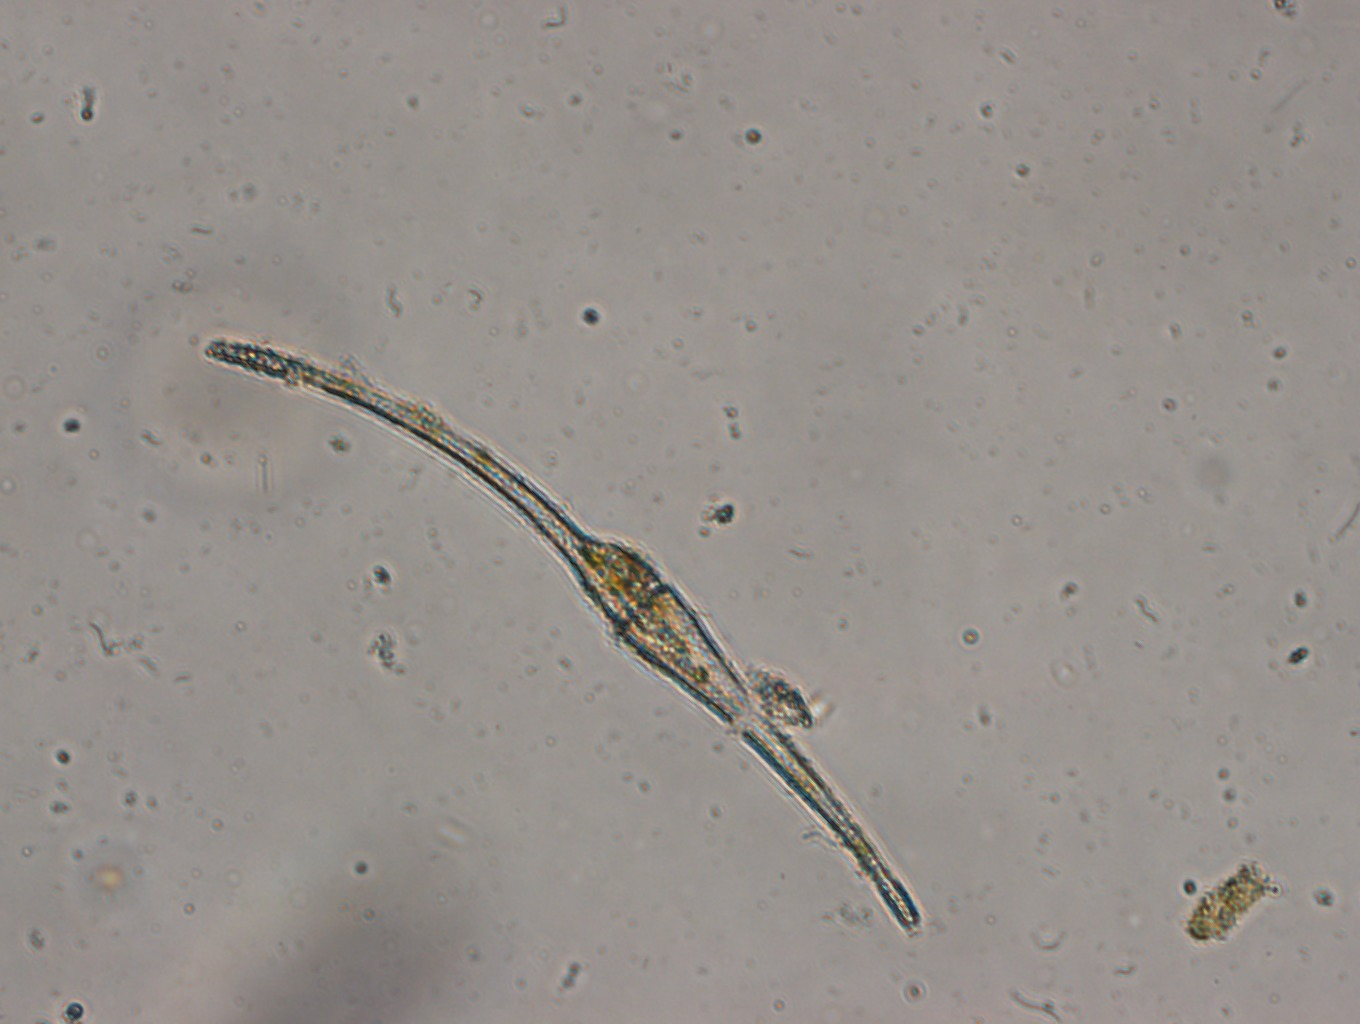ceratium fusus: (198, 324, 930, 942)
